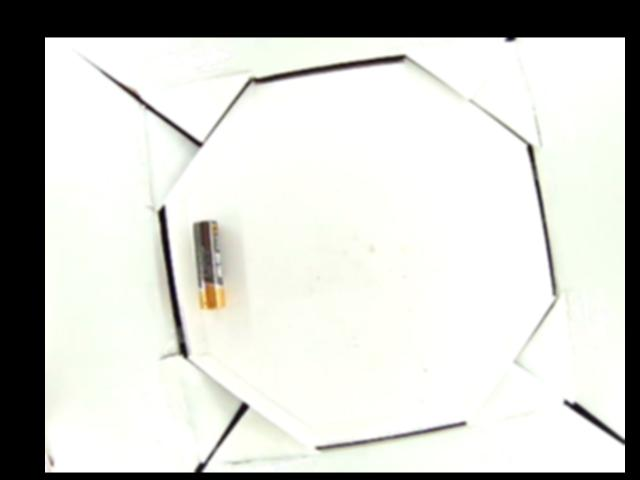Battery: (188, 218, 225, 313)
